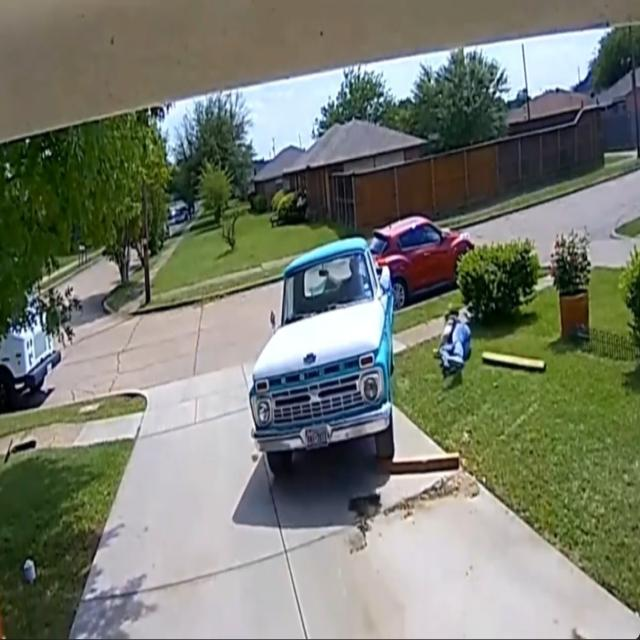fallen: (434, 308, 471, 378)
